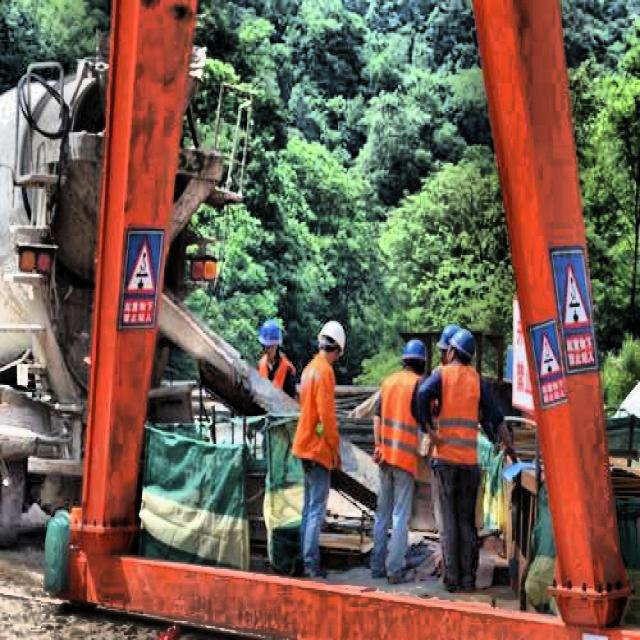helmet: (315, 316, 351, 364), (440, 324, 479, 366), (254, 310, 282, 364), (400, 332, 428, 376)
